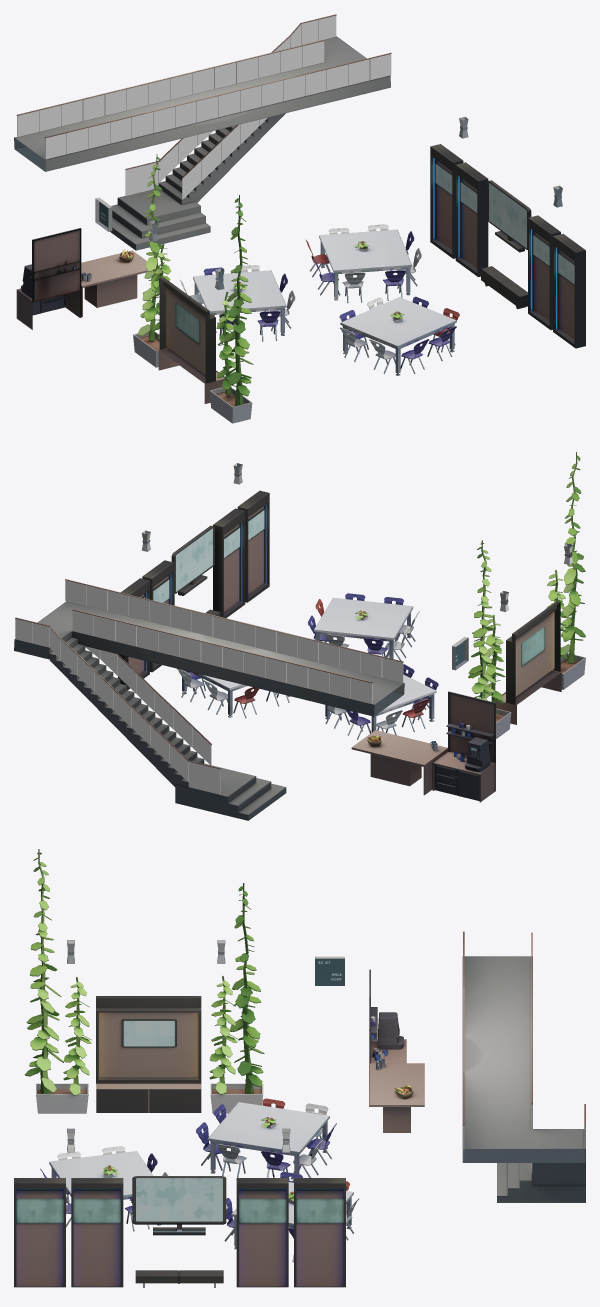
Rendered from cafeteria.glb.
The picture shows the model from 3 angles, top to bottom: view 1: azimuth 30°, elevation 25°; view 2: azimuth 150°, elevation 25°; view 3: azimuth 270°, elevation 25°; orthographic projection. The views are drawn at different scales.
Parts seen in each view (by area): view 1: glass, Bildschirm.003, Cube.017, treppe.002, Bildschirm.004, Cube.014, glass.001, Tisch2.005, Tisch2.004, Bildschirm.001, Tisch2.003, tisch3.001 (+7 smaller); view 2: glass, Cube.017, Bildschirm.003, treppe.002, glass.001, Cube.014, Bildschirm.004, Tisch2.005, tisch3.001, Bildschirm.001, Cube.010, Cube.024 (+8 smaller); view 3: Bildschirm.003, Cube.017, Bildschirm.004, Bildschirm.001, Tisch2.003, treppe.002, Cube.010, tisch3.001, Cube.024, Tisch2.005, Cube.025, Cube.011 (+7 smaller).
Part boxes in pixels (<box>): glass: <box>17,41,391,159</box>; Bildschirm.003: <box>430,144,585,348</box>; Cube.017: <box>14,36,390,171</box>; treppe.002: <box>110,113,285,250</box>; Bildschirm.004: <box>158,277,225,403</box>; Cube.014: <box>16,228,81,329</box>; glass.001: <box>125,15,336,199</box>; Tisch2.005: <box>340,297,456,375</box>; Tisch2.004: <box>319,229,412,300</box>; Bildschirm.001: <box>481,180,531,309</box>; Tisch2.003: <box>193,270,286,335</box>; tisch3.001: <box>81,250,147,317</box>; glass: <box>65,580,403,703</box>; Cube.017: <box>14,601,404,716</box>; Bildschirm.003: <box>118,490,269,690</box>; treppe.002: <box>49,637,286,820</box>; glass.001: <box>15,618,220,794</box>; Cube.014: <box>432,691,495,802</box>; Bildschirm.004: <box>496,601,561,724</box>; Tisch2.005: <box>314,597,413,658</box>; tisch3.001: <box>351,730,447,795</box>; Bildschirm.001: <box>171,525,220,616</box>; Cube.010: <box>561,452,585,663</box>; Cube.024: <box>468,540,498,700</box>; Bildschirm.003: <box>14,1178,345,1287</box>; Cube.017: <box>462,956,585,1162</box>; Bildschirm.004: <box>96,996,201,1112</box>; Bildschirm.001: <box>132,1176,226,1287</box>; Tisch2.003: <box>207,1102,329,1173</box>; treppe.002: <box>497,1137,585,1202</box>; Cube.010: <box>24,849,63,1093</box>; tisch3.001: <box>369,1063,424,1132</box>; Cube.024: <box>229,883,264,1093</box>; Tisch2.005: <box>49,1151,160,1225</box>; Cube.025: <box>209,975,237,1094</box>; Cube.011: <box>63,976,91,1095</box>.
Size of the model in its own units: 9.13 by 4.94 by 9.9.
Materials: 1 (1 with a texture image).
